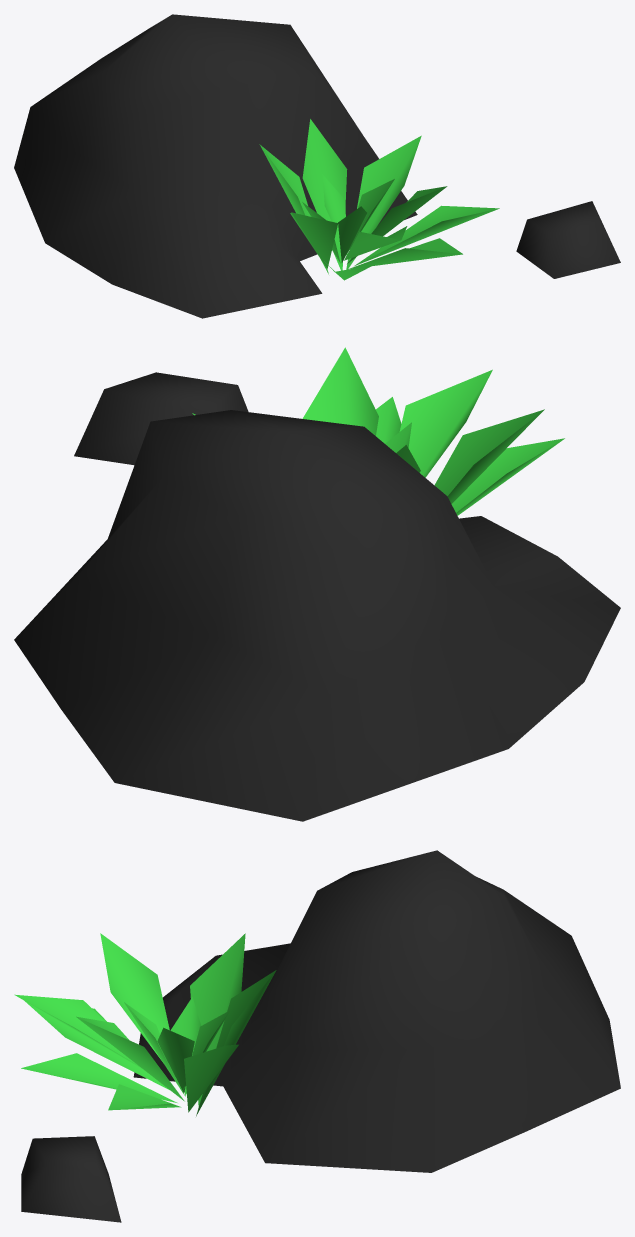
Rendered from stein01.FBX.
3 renders of one model, top to bottom at view 1: azimuth 30°, elevation 25°; view 2: azimuth 150°, elevation 25°; view 3: azimuth 270°, elevation 25°, orthographic. The views are drawn at different scales.
Parts seen in each view (by area): view 1: stein01; view 2: stein01; view 3: stein01.
Boxes of the visible parts, x1,y1,x2,y2 form: stein01: (14, 14, 620, 318); stein01: (14, 347, 620, 821); stein01: (14, 850, 620, 1222).
Size of the model in its own units: 15.31 by 6.94 by 16.6.
